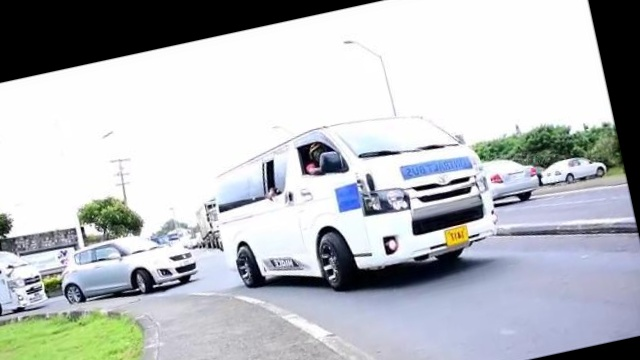van: (194, 101, 507, 319)
